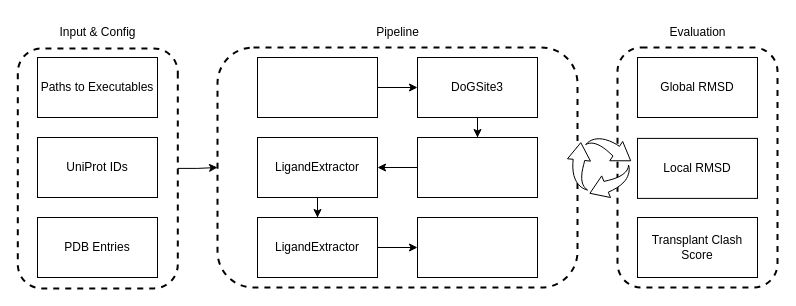
The diagram is 796 pixels wide and 306 high, and some of its shapes have lost their labels. Here are the shapes that lost their labels. From the top down, the centre of each, then its label:
At (317,87): "AlphaFoldFetcher".
At (477,167): "SIENA".
At (477,247): "JAMDAscorer".
